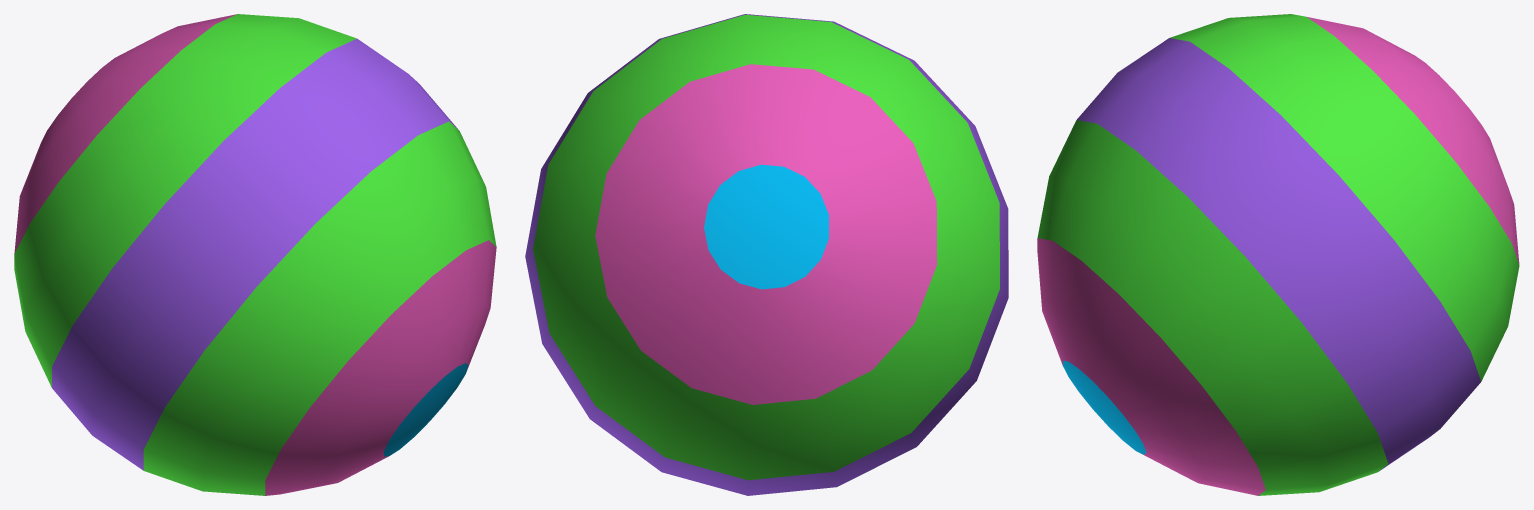
Rendered from top.fbx.
3 renders of one model, left to right at view 1: azimuth 30°, elevation 25°; view 2: azimuth 150°, elevation 25°; view 3: azimuth 270°, elevation 25°, orthographic.
Visible parts, largest first — view 1: top; view 2: top; view 3: top.
Boxes of the visible parts, x1,y1,x2,y2 form: top: [14, 14, 496, 495]; top: [525, 14, 1008, 495]; top: [1037, 14, 1519, 495].
Bounding box in the file's own units: 84.76 × 85.11 × 84.98.
